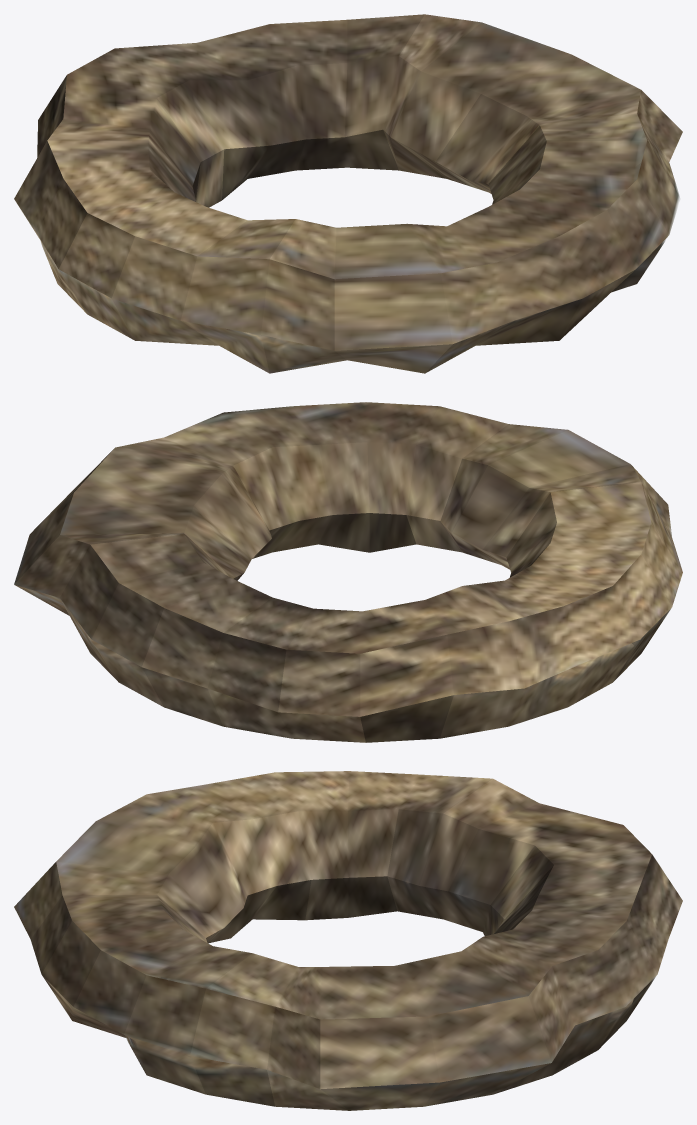
File: rope.glb
3 renders of one model, top to bottom at view 1: azimuth 30°, elevation 25°; view 2: azimuth 150°, elevation 25°; view 3: azimuth 270°, elevation 25°, orthographic. The views are drawn at different scales.
Visible parts, largest first — view 1: Torus; view 2: Torus; view 3: Torus.
Part boxes in pixels (x1,y1,x2,y2): Torus: (14, 14, 682, 373); Torus: (14, 402, 682, 742); Torus: (14, 771, 682, 1110).
Size of the model in its own units: 2.64 by 0.4734 by 2.62.
Materials: 1 (1 with a texture image).
